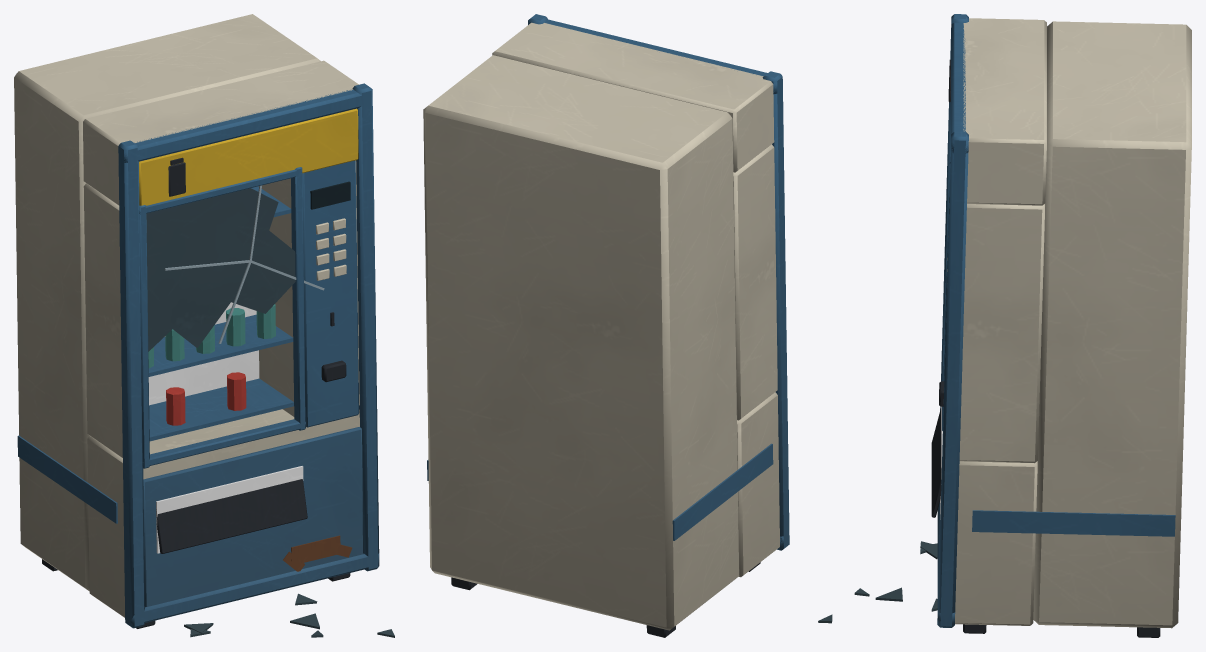
Rendered from vending_machine.glb.
3 renders of one model, left to right at view 1: azimuth 30°, elevation 25°; view 2: azimuth 150°, elevation 25°; view 3: azimuth 270°, elevation 25°, orthographic. The views are drawn at different scales.
Visible parts, largest first — view 1: vending_machine; view 2: vending_machine; view 3: vending_machine.
Part boxes in pixels (box(x1,y1,x2,y2)): vending_machine: box(14, 14, 394, 637); vending_machine: box(423, 14, 789, 637); vending_machine: box(818, 14, 1191, 637).
Size of the model in its own units: 1.02 by 1.94 by 1.29.
Materials: 17 (17 with a texture image).
